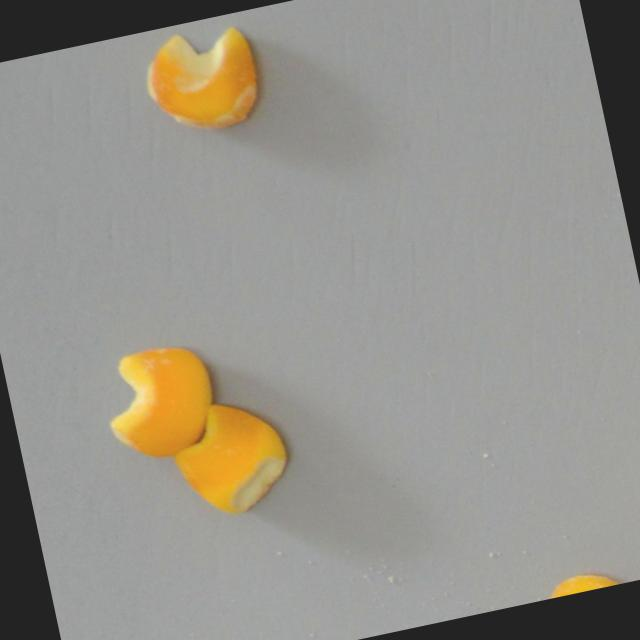no_canjicado: (165, 391, 296, 523), (94, 336, 225, 467), (540, 563, 639, 600)
pelicula: (136, 16, 267, 144)
